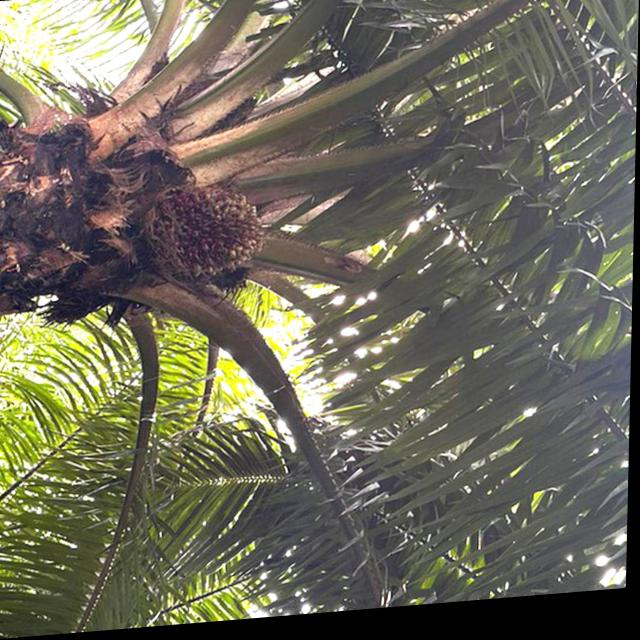ripe: (139, 166, 283, 299)
